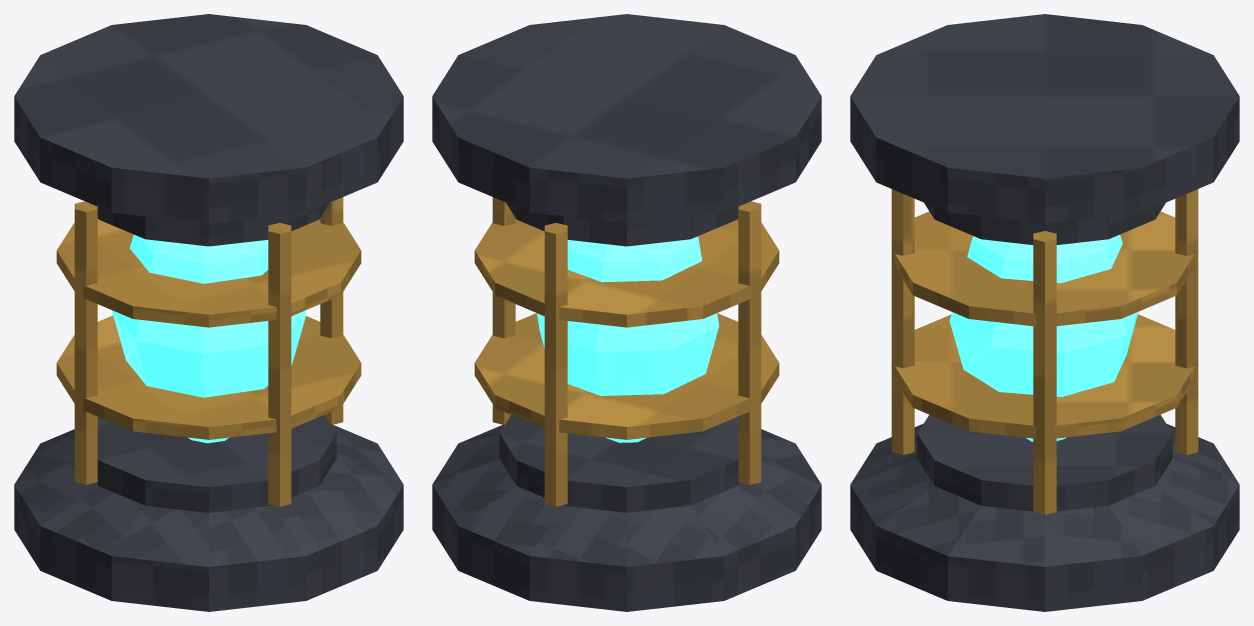
File: SM_Prop_LiftCore_HQ.glb
3 renders of one model, left to right at view 1: azimuth 30°, elevation 25°; view 2: azimuth 150°, elevation 25°; view 3: azimuth 270°, elevation 25°, orthographic.
Parts seen in each view (by area): view 1: SM_Prop_LiftCore_HQ; view 2: SM_Prop_LiftCore_HQ; view 3: SM_Prop_LiftCore_HQ.
Part boxes in pixels (x1,y1,x2,y2): SM_Prop_LiftCore_HQ: (14, 14, 403, 611); SM_Prop_LiftCore_HQ: (432, 14, 821, 611); SM_Prop_LiftCore_HQ: (850, 14, 1239, 611).
Size of the model in its own units: 2.2 by 2.7 by 2.2.
1 material, 1 textured.
